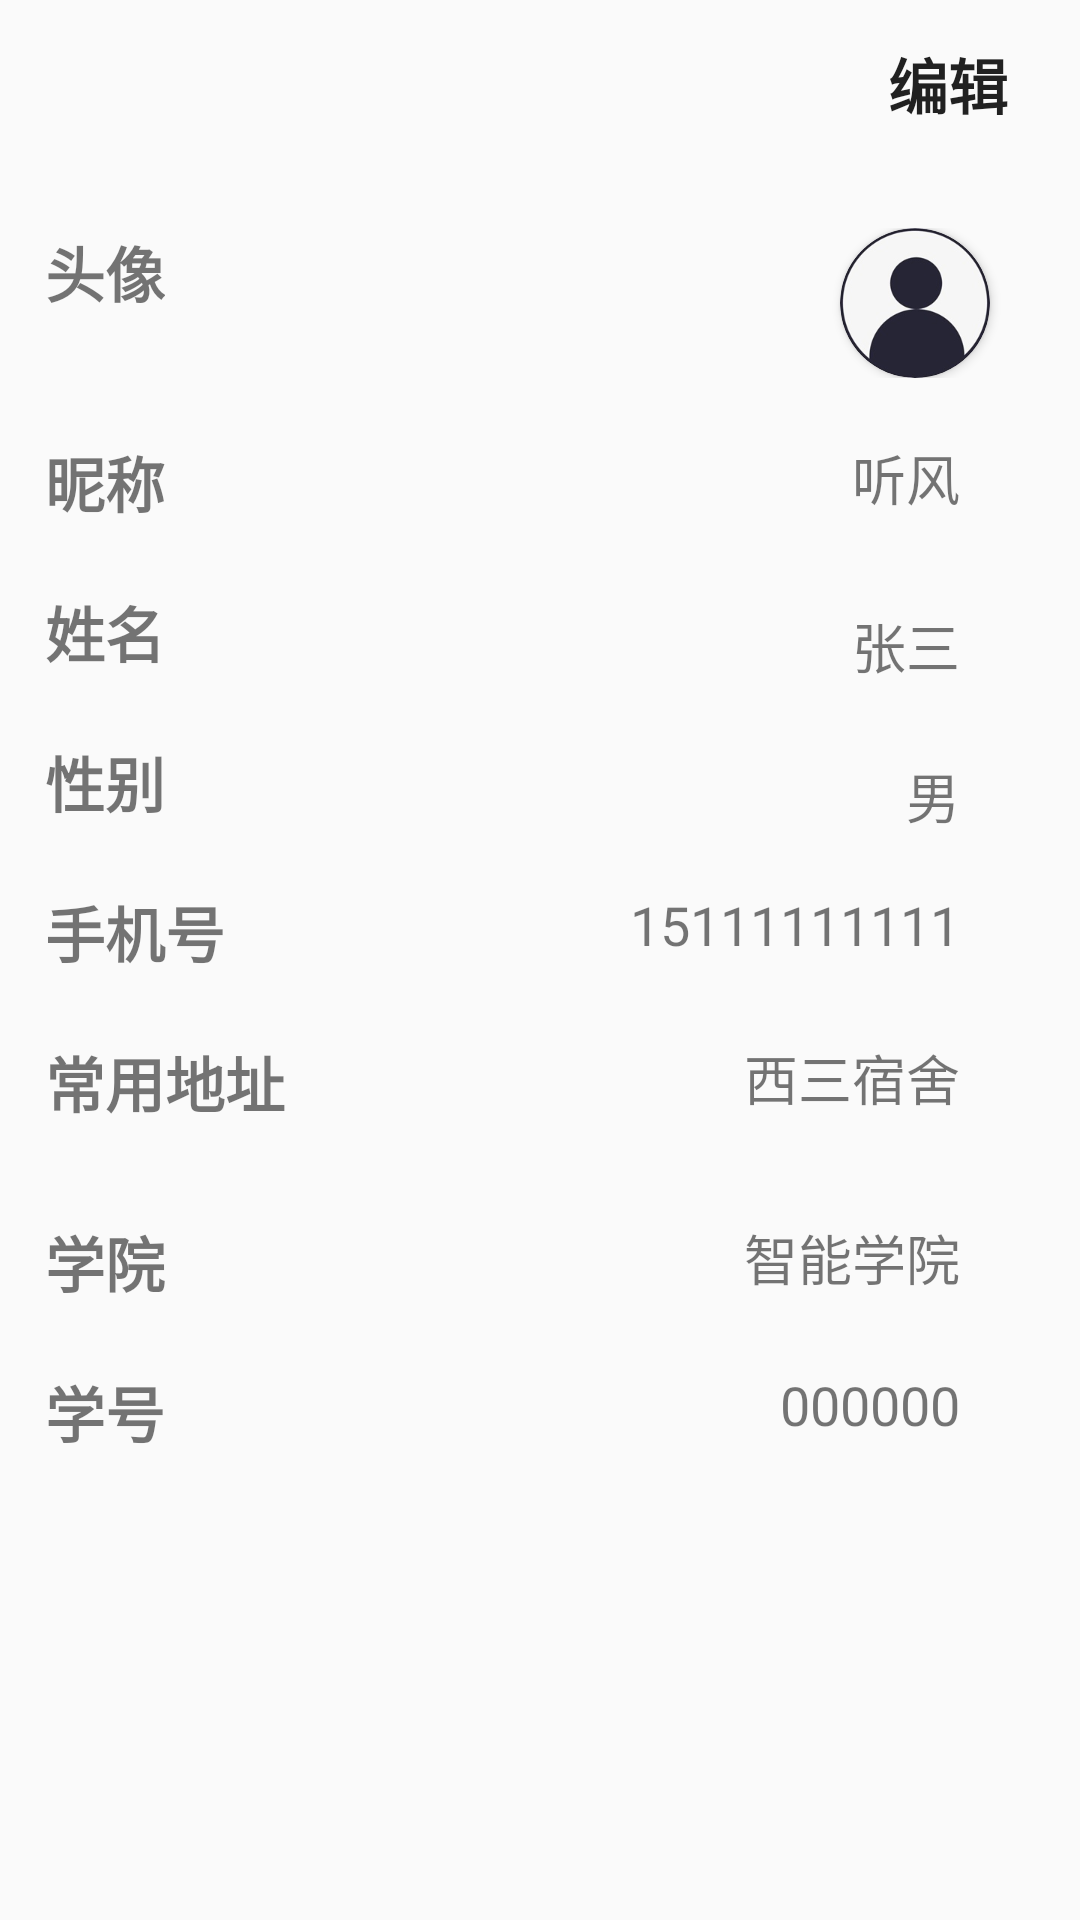

Point at icon controls on the screen. Image size 1080 × 1920, points as (x=x, y=y).
head pic: (x=915, y=303)
